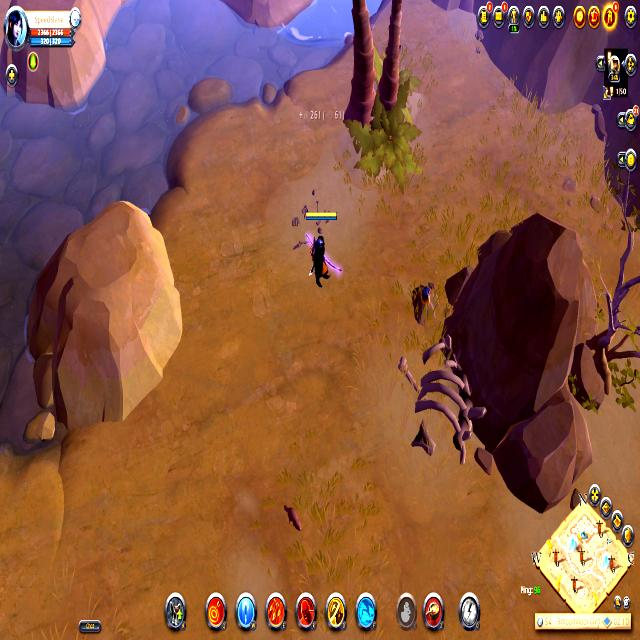player: (411, 274, 441, 325)
red: (300, 206, 342, 292)
